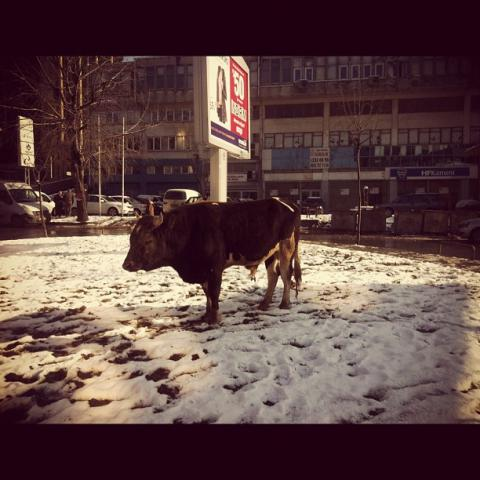car: (0, 181, 55, 227), (375, 194, 450, 217), (72, 194, 133, 216), (163, 189, 202, 213), (110, 195, 148, 216), (456, 218, 479, 242), (36, 192, 57, 216), (300, 196, 326, 214), (137, 194, 163, 208), (227, 195, 239, 203)
